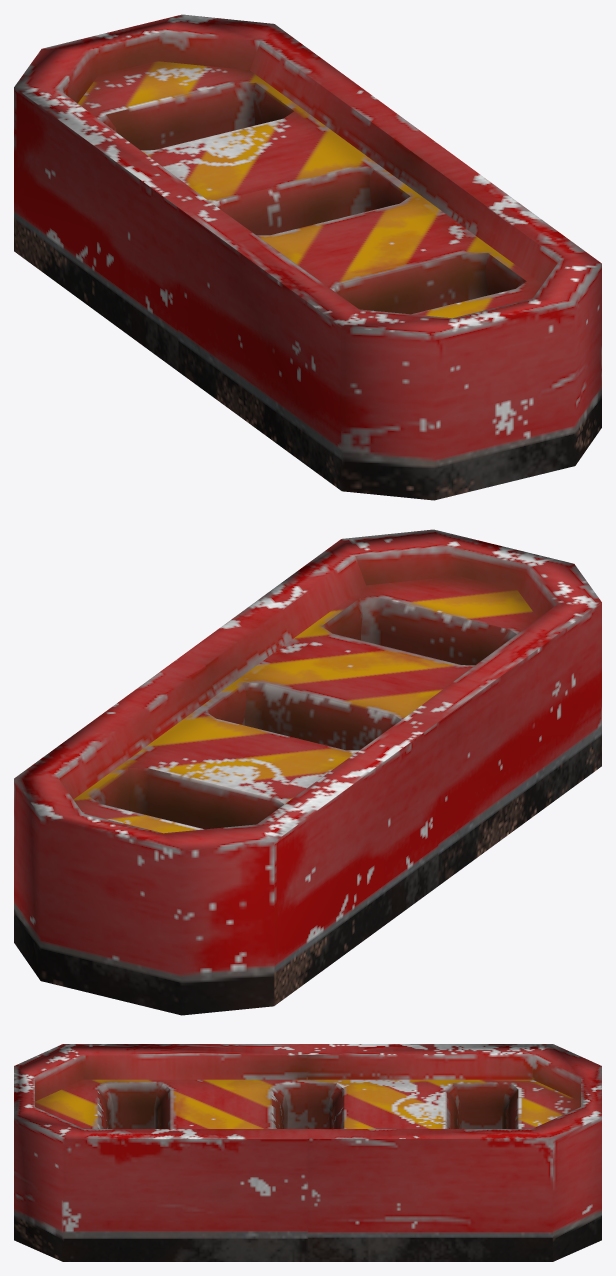
File: OilFabric3.output.fbx
3 renders of one model, top to bottom at view 1: azimuth 30°, elevation 25°; view 2: azimuth 150°, elevation 25°; view 3: azimuth 270°, elevation 25°, orthographic. The views are drawn at different scales.
Visible parts, largest first — view 1: Takeoff; view 2: Takeoff; view 3: Takeoff.
Boxes of the visible parts, box(x1,y1,x2,y2) form: Takeoff: box(14, 14, 601, 500); Takeoff: box(14, 529, 601, 1015); Takeoff: box(14, 1044, 601, 1261).
Size of the model in its own units: 0.1246 by 0.075 by 0.3255.
